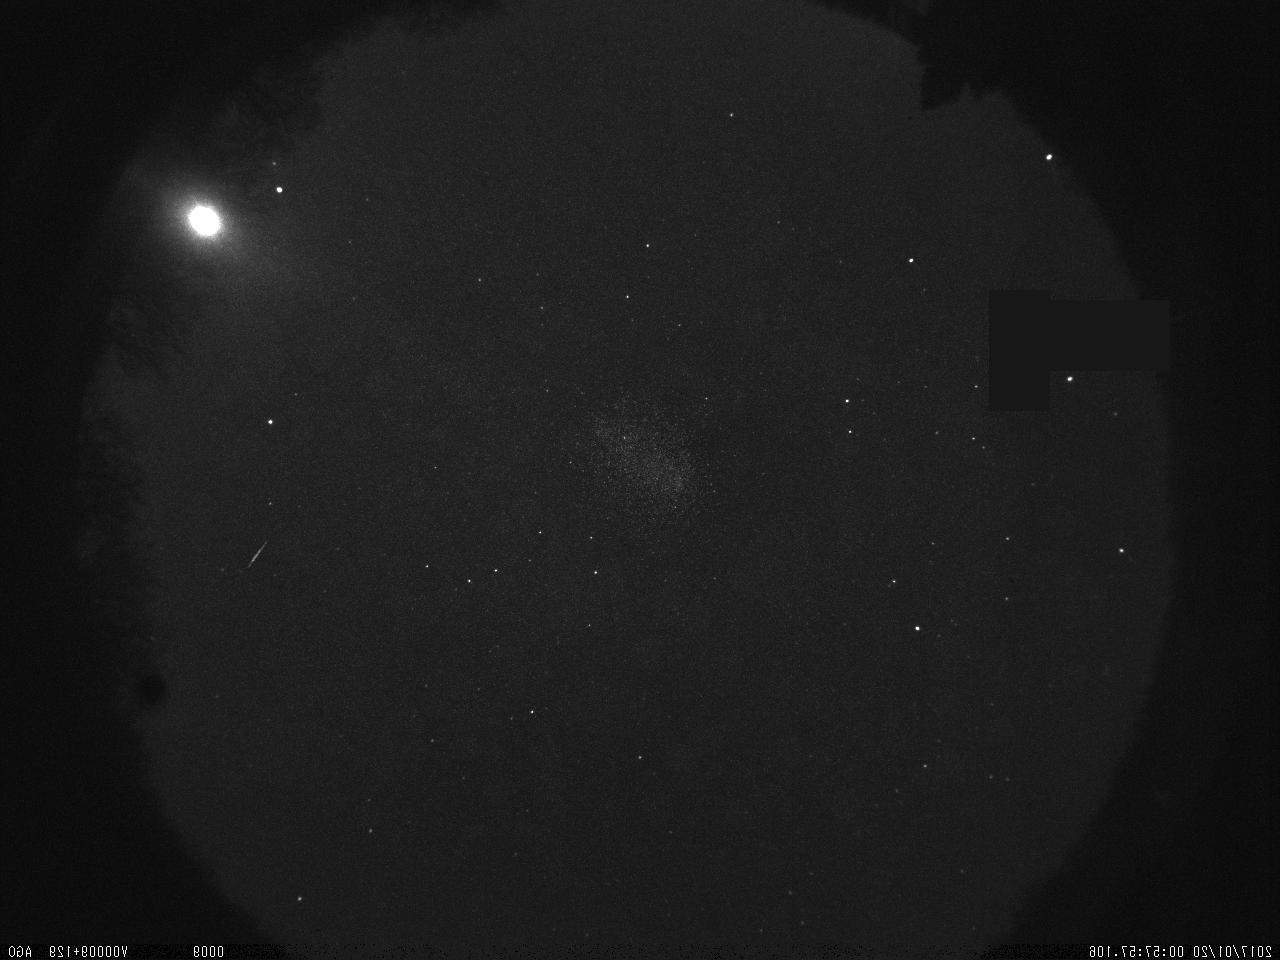meteor: (236, 539, 275, 578)
